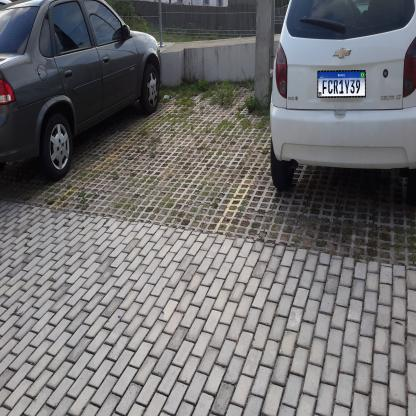PlacaM: (317, 70, 366, 98)
